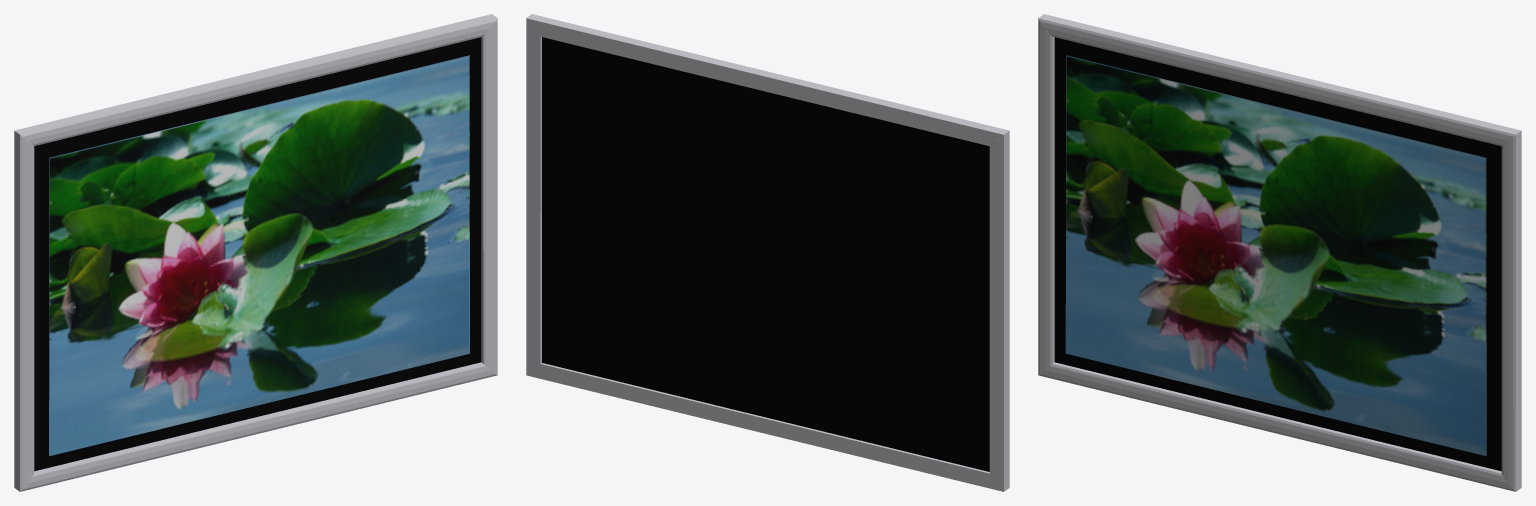
File: sweethome3d-contributions-frame-water-lily.glb
3 views of the same model, side by side, from view 1: azimuth 30°, elevation 25°; view 2: azimuth 150°, elevation 25°; view 3: azimuth 330°, elevation 25° (orthographic).
Visible parts, largest first — view 1: Photo_Cube_Material_WaterLily, MetalFrame_Cylinder_Aluminium.014, Frame_Black_Material.018; view 2: Frame_Black_Material.018, MetalFrame_Cylinder_Aluminium.014; view 3: Photo_Cube_Material_WaterLily, MetalFrame_Cylinder_Aluminium.014, Frame_Black_Material.018.
Boxes of the visible parts, x1,y1,x2,y2 form: Photo_Cube_Material_WaterLily: (49, 55, 469, 456); MetalFrame_Cylinder_Aluminium.014: (14, 14, 497, 491); Frame_Black_Material.018: (34, 37, 481, 471); Frame_Black_Material.018: (542, 37, 989, 471); MetalFrame_Cylinder_Aluminium.014: (526, 14, 1009, 491); Photo_Cube_Material_WaterLily: (1065, 55, 1486, 456); MetalFrame_Cylinder_Aluminium.014: (1038, 14, 1521, 491); Frame_Black_Material.018: (1054, 37, 1501, 471).
Bounding box in the file's own units: 67 × 47.86 × 1.6.
3 materials, 1 textured.
